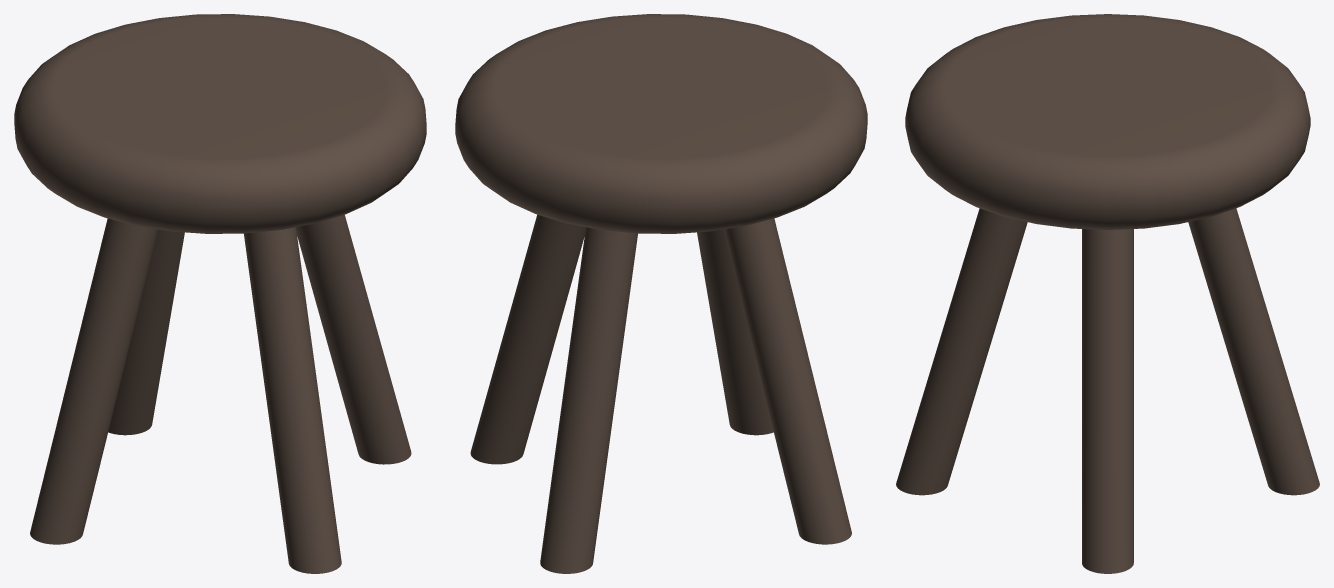
File: Tabouret2_2.fbx
The picture shows the model from 3 angles, left to right: view 1: azimuth 30°, elevation 25°; view 2: azimuth 150°, elevation 25°; view 3: azimuth 270°, elevation 25°; orthographic projection.
Parts seen in each view (by area): view 1: pCylinder1616, pCylinder1635; view 2: pCylinder1616, pCylinder1635; view 3: pCylinder1616, pCylinder1635.
Boxes of the visible parts, x1,y1,x2,y2 form: pCylinder1616: (14, 14, 426, 233); pCylinder1635: (30, 214, 411, 573); pCylinder1616: (455, 14, 867, 233); pCylinder1635: (470, 214, 851, 573); pCylinder1616: (905, 14, 1310, 229); pCylinder1635: (896, 208, 1319, 573).
Bounding box in the file's own units: 40.86 × 42.26 × 40.85.
